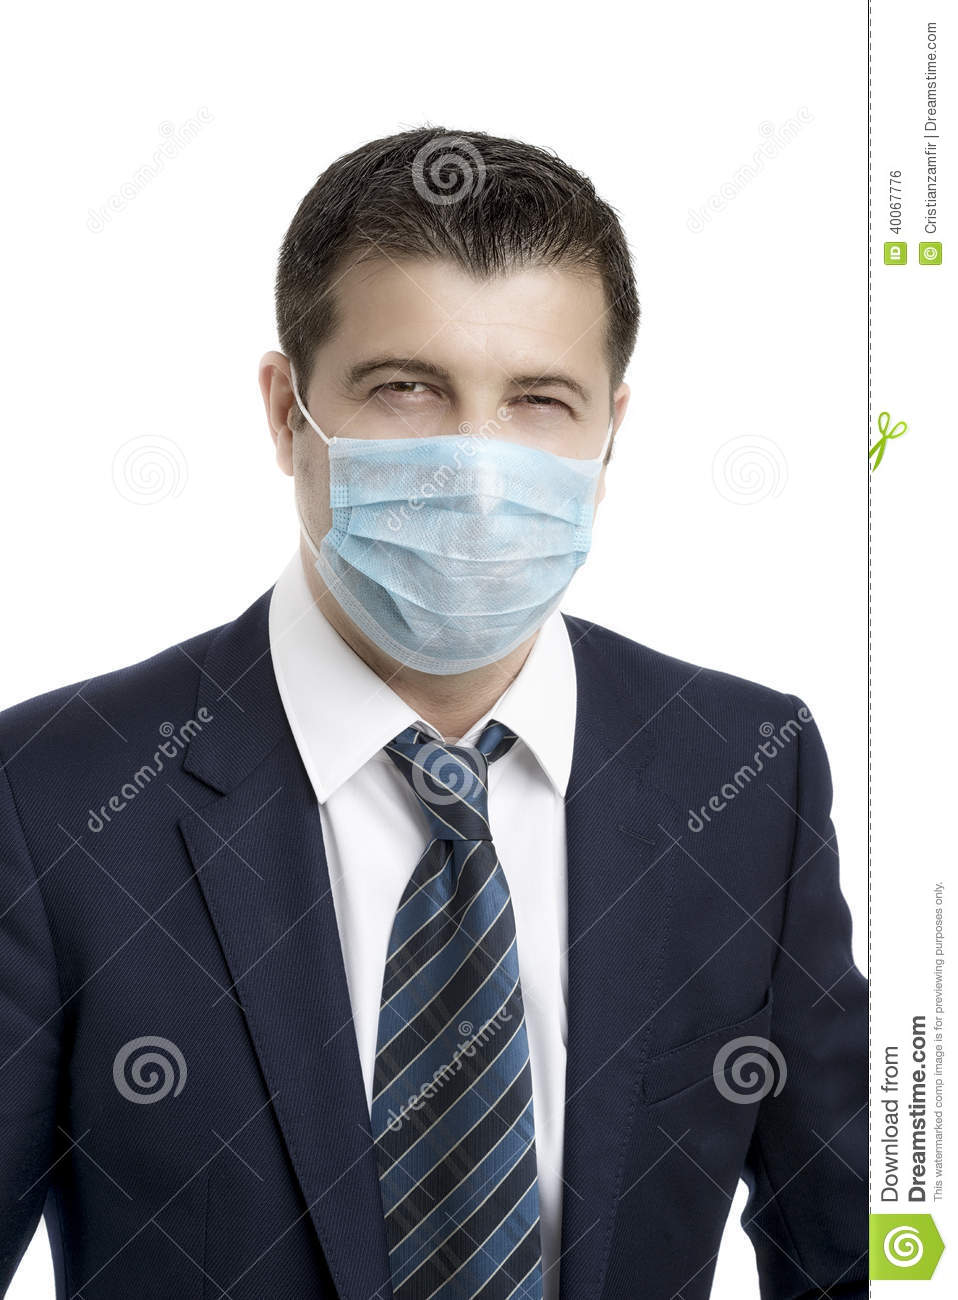mask: (324, 433, 599, 678)
